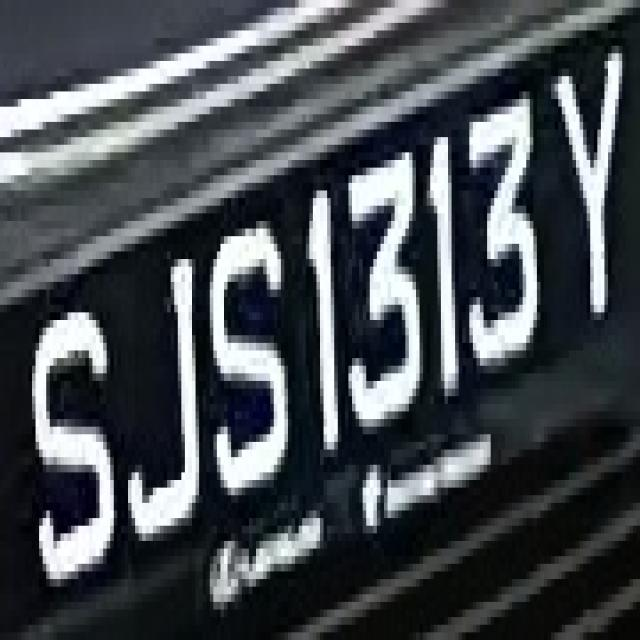1: (416, 68, 459, 450), (299, 130, 341, 488)
3: (455, 76, 541, 381), (338, 152, 423, 442)
J: (114, 228, 202, 572)
S: (199, 190, 288, 526), (21, 282, 114, 594)
Y: (548, 31, 636, 358)
